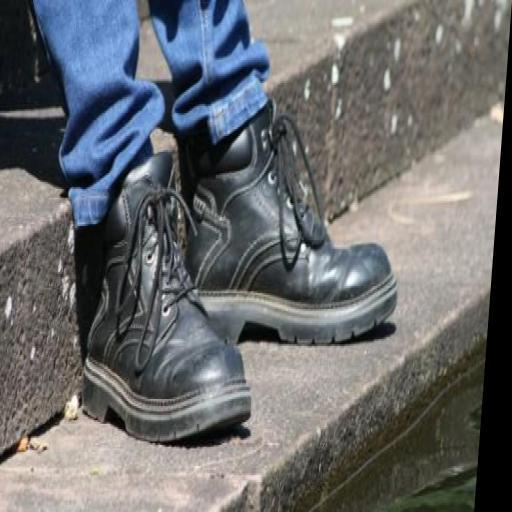safety_boots: (176, 114, 446, 355), (56, 186, 250, 442)
